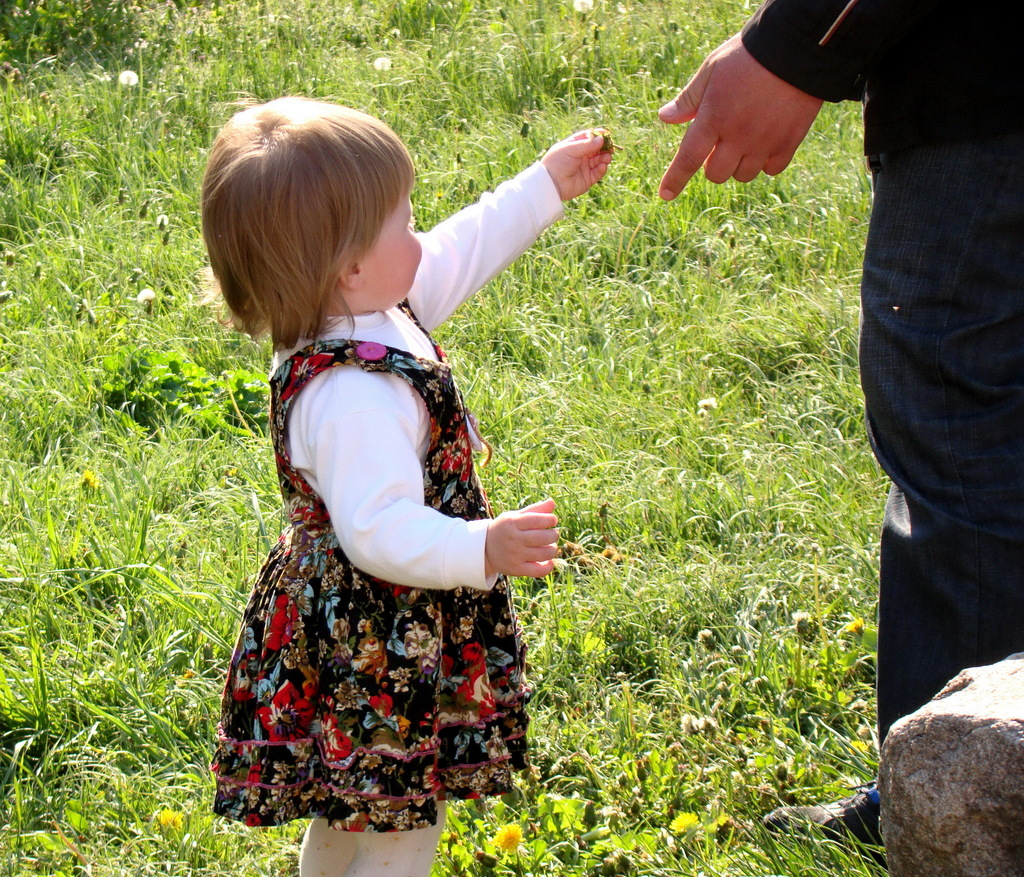Human_hand: (655, 28, 830, 201), (477, 506, 559, 574), (543, 125, 612, 202)
